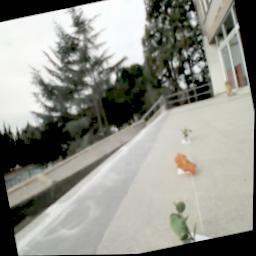herb: (167, 198, 202, 248), (181, 128, 194, 143)
wild: (174, 151, 201, 182)
